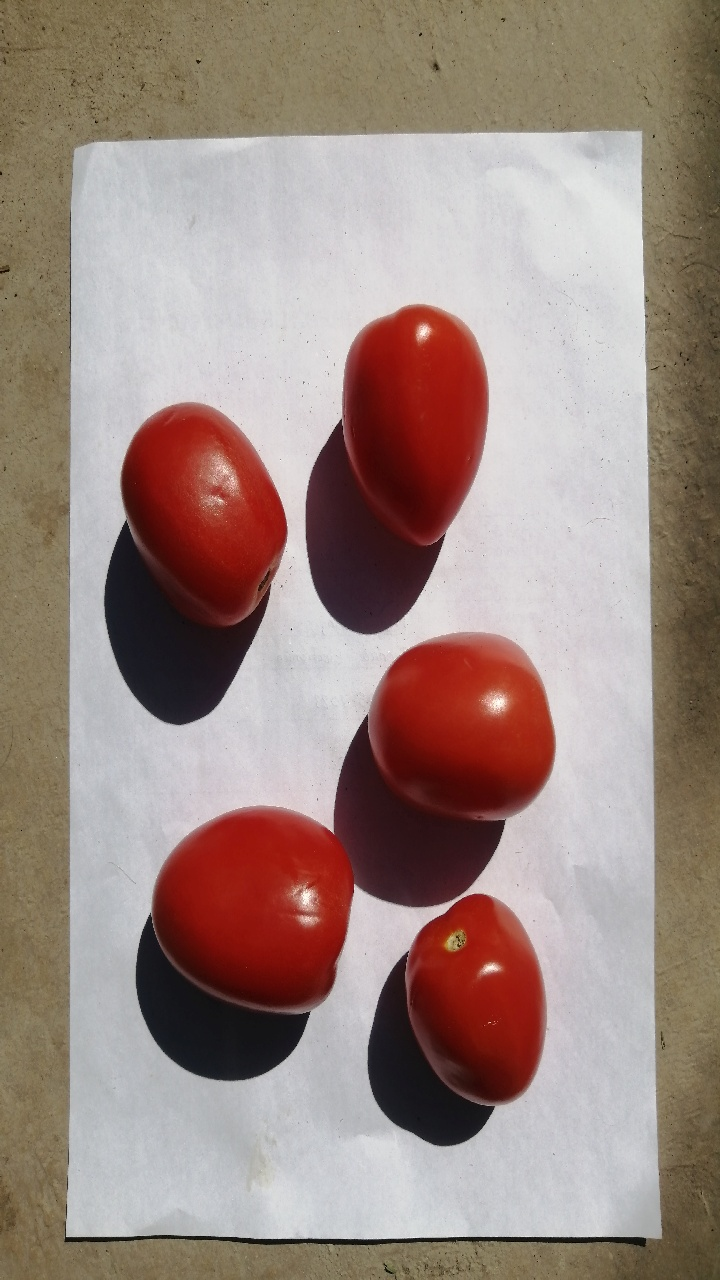tomateRojo: (321, 274, 509, 555), (97, 385, 304, 640), (144, 799, 366, 1029), (340, 617, 572, 837), (369, 871, 557, 1122)
